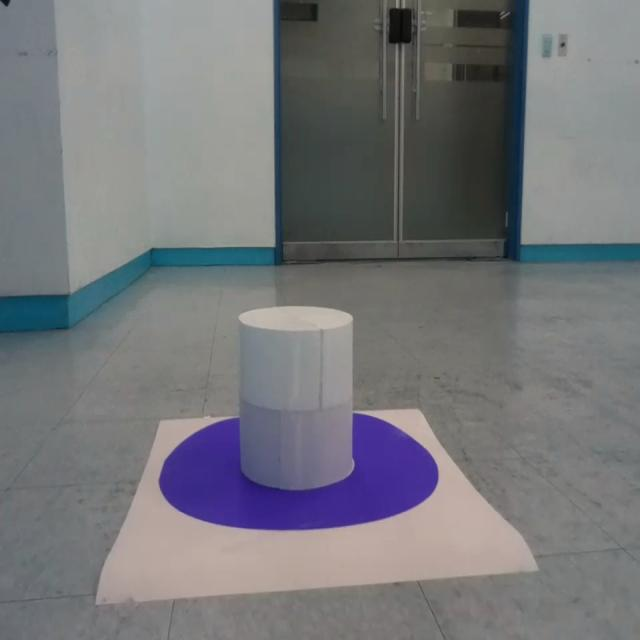cylinder: (237, 305, 356, 491)
